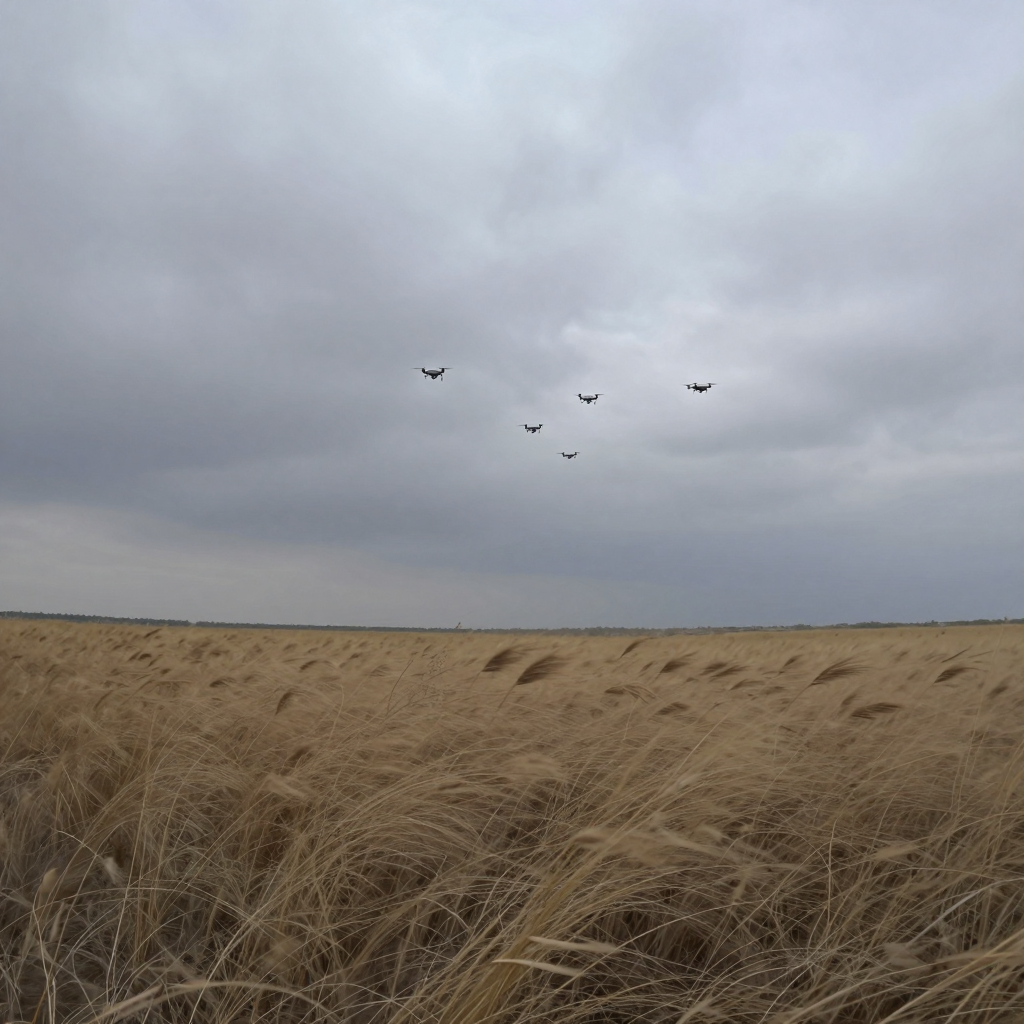drone: (412, 367, 453, 381), (573, 393, 605, 405), (683, 383, 717, 394), (517, 424, 543, 434), (556, 452, 580, 459)
